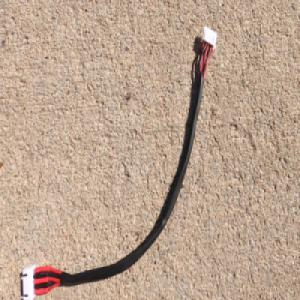Wire: (19, 22, 218, 300)
